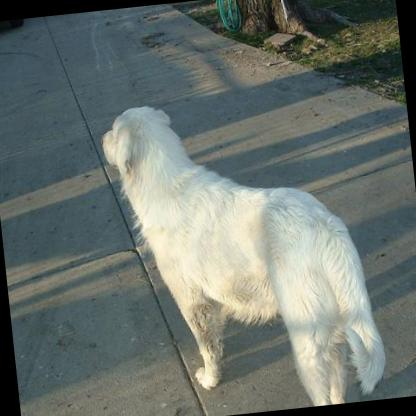Great_Pyrenees: (95, 81, 386, 416)
